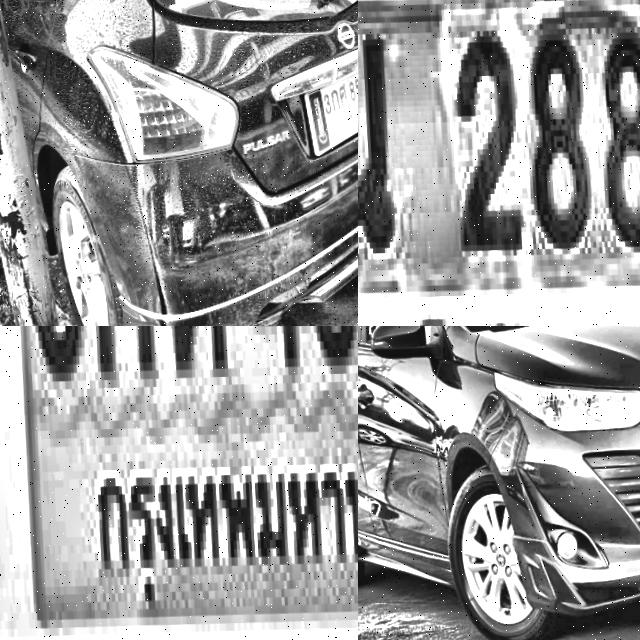license-plate: (0, 326, 358, 640), (358, 0, 640, 326), (294, 58, 358, 162)
